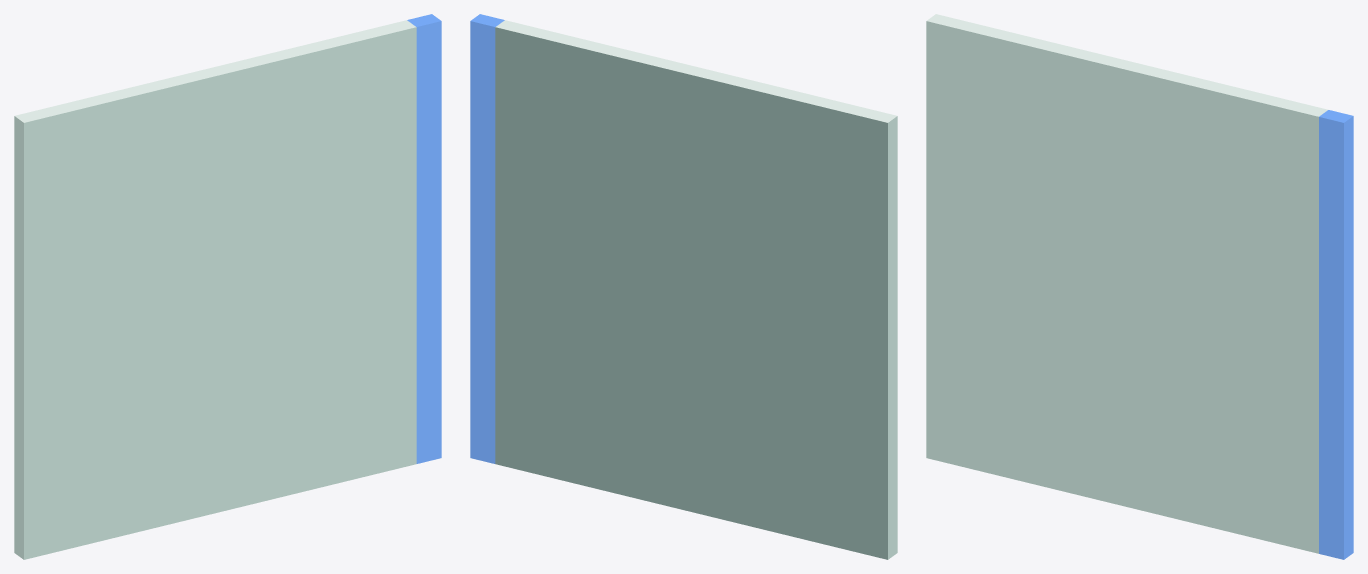
The model's file is Goal_LeafL.gltf.
3 renders of one model, left to right at view 1: azimuth 30°, elevation 25°; view 2: azimuth 150°, elevation 25°; view 3: azimuth 330°, elevation 25°, orthographic.
Parts seen in each view (by area): view 1: Goal_LeafL_baked; view 2: Goal_LeafL_baked; view 3: Goal_LeafL_baked.
Part boxes in pixels (<box>): Goal_LeafL_baked: <box>14,14,441,559</box>; Goal_LeafL_baked: <box>470,14,897,559</box>; Goal_LeafL_baked: <box>926,14,1353,559</box>.
Bounding box in the file's own units: 1 × 1 × 0.04.
